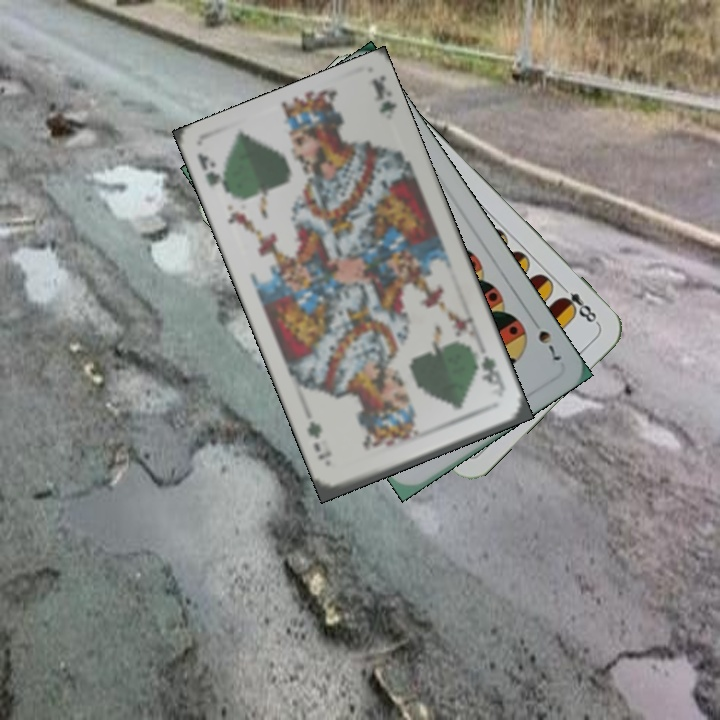E8: (555, 280, 601, 327)
GK: (193, 148, 234, 198), (477, 351, 508, 397)
S7: (526, 313, 564, 364)
